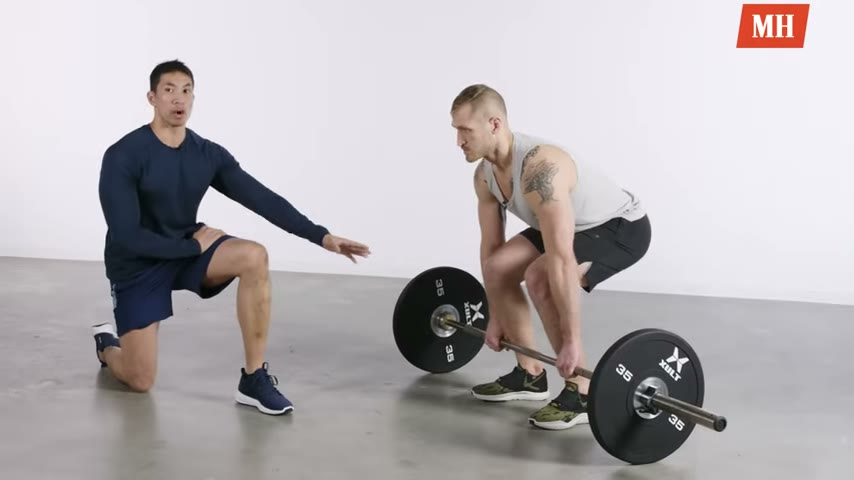barbell_plate_side: (384, 266, 470, 452), (637, 311, 732, 469)
